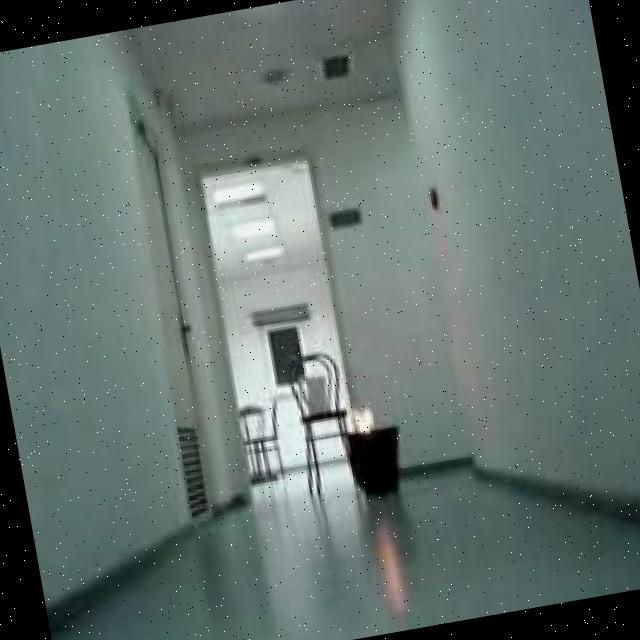Fire: (343, 400, 383, 433)
